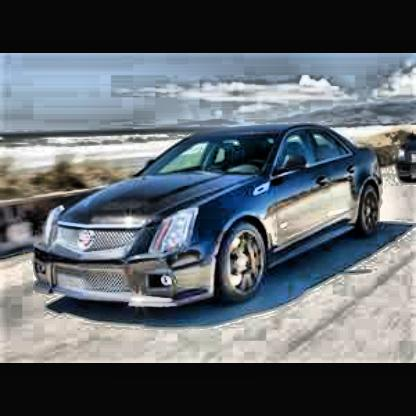Cadillac CTS-V Sedan 2012: (35, 124, 384, 319)
